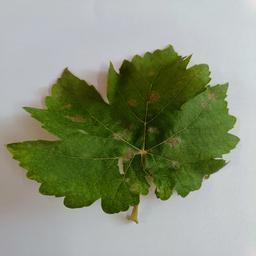Powdery-Mildew: (195, 86, 223, 115)
